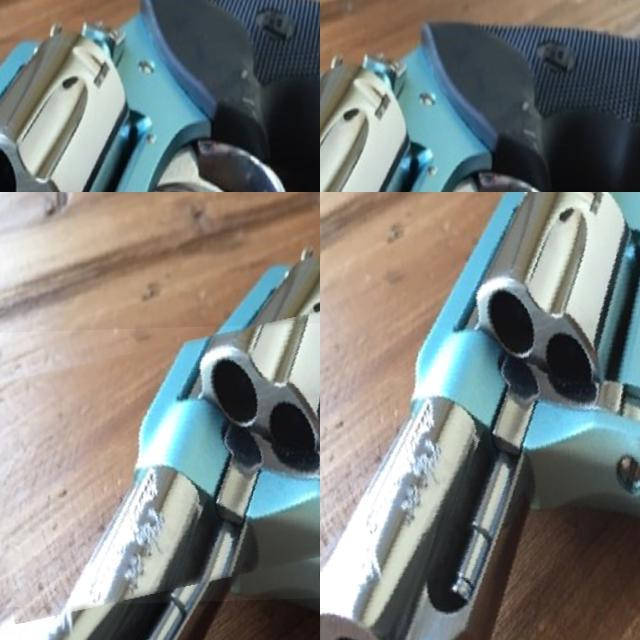-: (320, 80, 340, 192)
gun-knife-thesis - v11 Yolov5 augmented: (320, 192, 640, 640), (0, 324, 320, 608)
